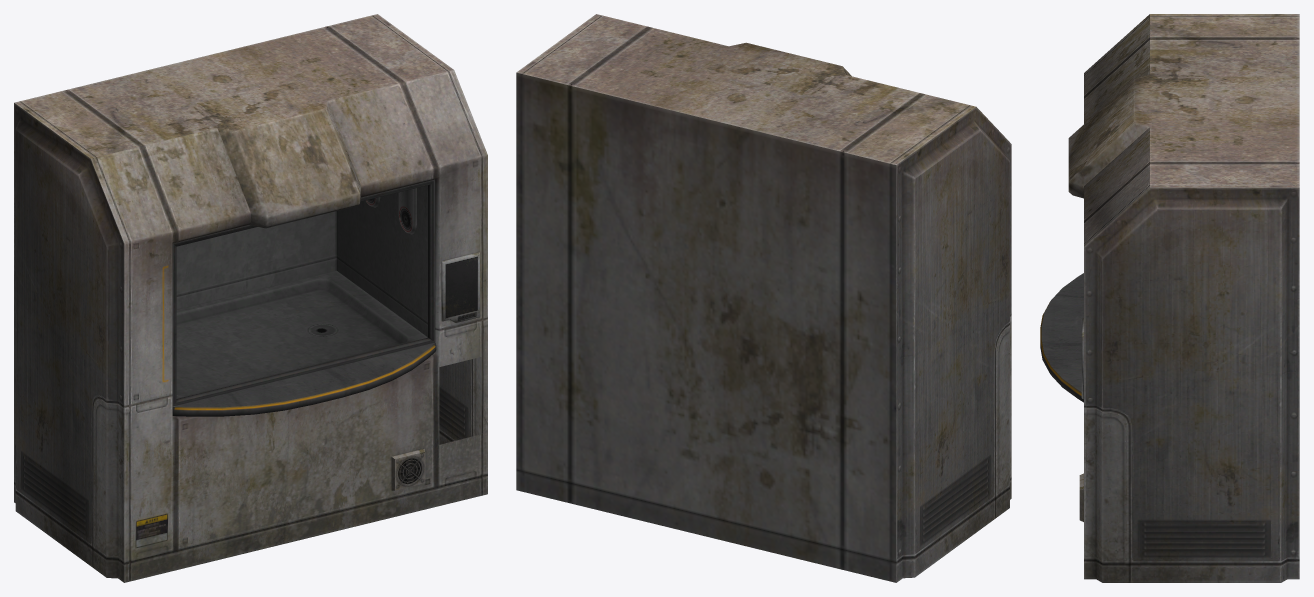
The model's file is incubator_noglass_chipbox_hole.dae.
3 renders of one model, left to right at view 1: azimuth 30°, elevation 25°; view 2: azimuth 150°, elevation 25°; view 3: azimuth 270°, elevation 25°, orthographic. The views are drawn at different scales.
Parts seen in each view (by area): view 1: low; view 2: low; view 3: low.
Boxes of the visible parts, x1,y1,x2,y2 form: low: (14,14,487,582); low: (516,14,1011,582); low: (1040,14,1299,582).
Bounding box in the file's own units: 2.6 × 2.62 × 1.58.
